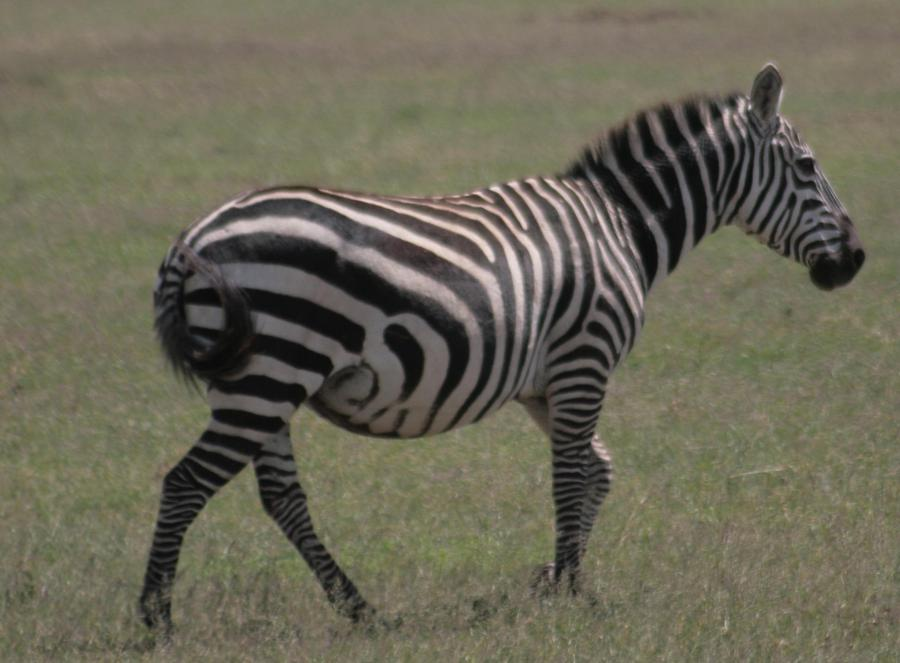zebra_plains: (185, 150, 652, 441)
